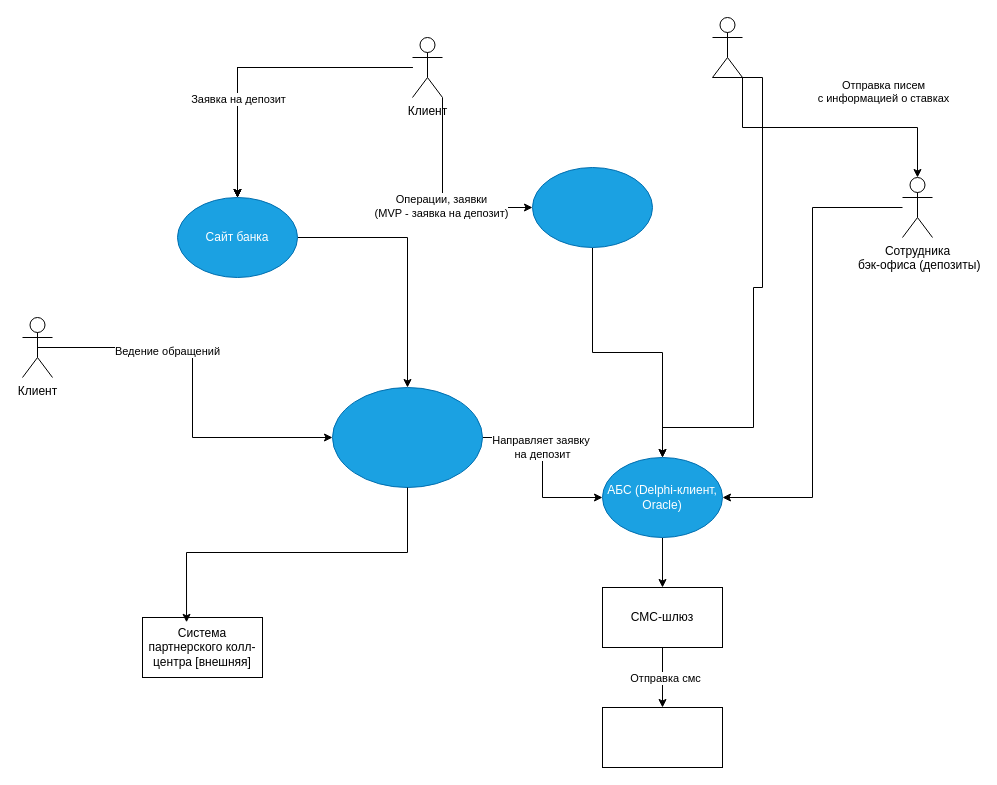
This 997x785 diagram has some shape labels left out. Here are the shapes that lost their labels. From the top down, the centre of each, then its label:
At [727,47]: "Сотрудник фронт-офиса".
At [592,207]: "Интернет-банк (ASP.NET MVC, MS SQL)".
At [407,437]: "Система кол-центра (React.js, Java, Postgres) [внутренняя]".
At [662,737]: "Телеком-оператор".
